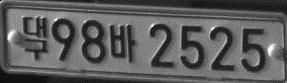2: (149, 22, 174, 67), (210, 25, 234, 71)
5: (241, 27, 265, 72), (180, 25, 204, 69)
8: (81, 18, 105, 63)
9: (50, 17, 75, 61)
대구_V: (22, 15, 47, 61)
바: (109, 23, 135, 62)
